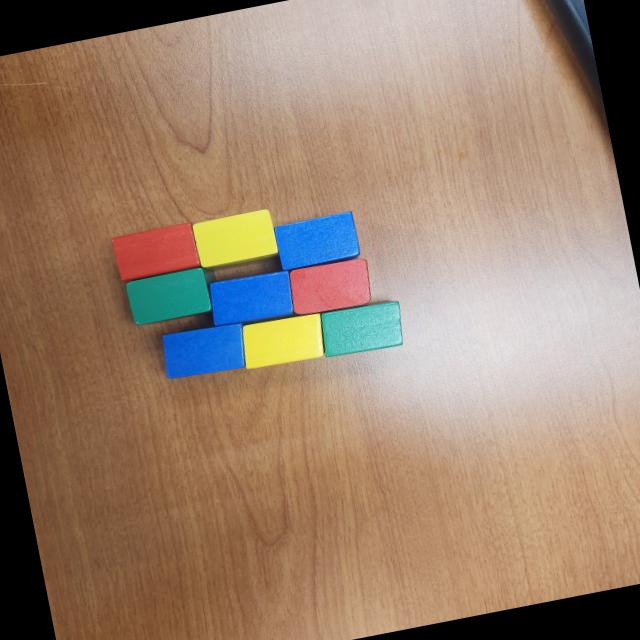blue: (159, 320, 253, 382), (206, 268, 298, 331), (274, 210, 362, 272)
green: (123, 262, 224, 328), (316, 298, 410, 362)
red: (286, 255, 374, 318), (110, 222, 202, 282)
yellow: (190, 206, 280, 268), (239, 312, 328, 371)
